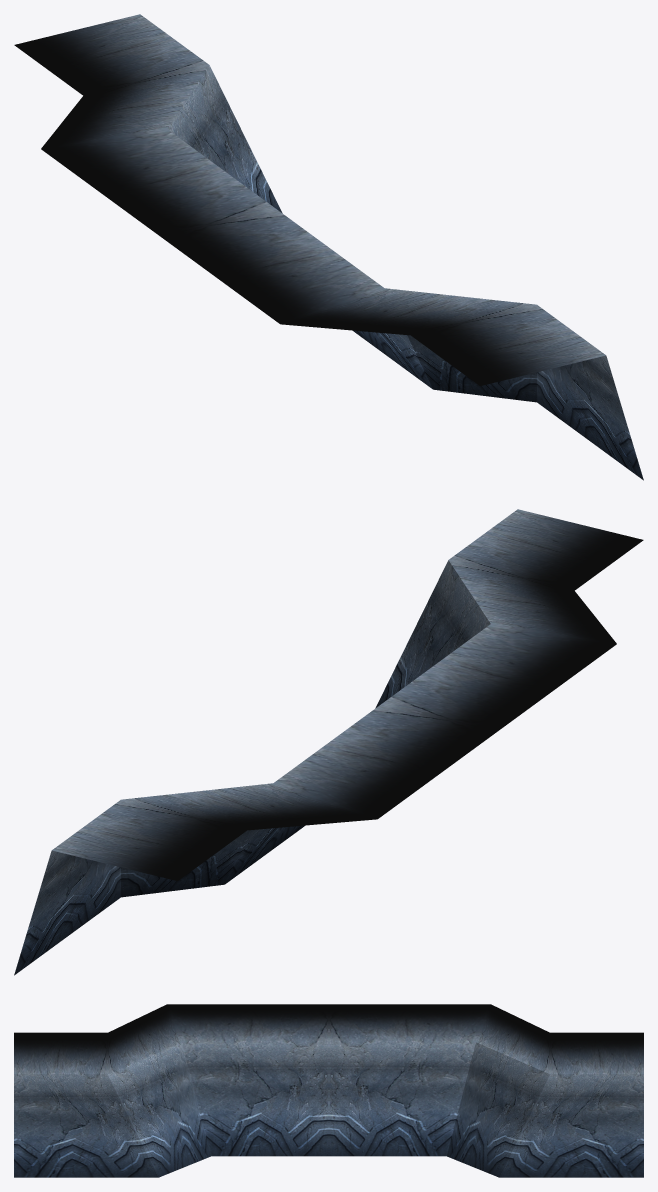
File: MJ_Jsls_02.FBX
3 views of the same model, one above another, from view 1: azimuth 30°, elevation 25°; view 2: azimuth 150°, elevation 25°; view 3: azimuth 270°, elevation 25° (orthographic). The views are drawn at different scales.
Parts seen in each view (by area): view 1: Object06; view 2: Object06; view 3: Object06.
Part boxes in pixels (left/top/right/bottom): Object06: left=14, top=14, right=643, bottom=480; Object06: left=14, top=509, right=643, bottom=975; Object06: left=14, top=1004, right=643, bottom=1177.
Bounding box in the file's own units: 14.12 × 7.25 × 45.52.
